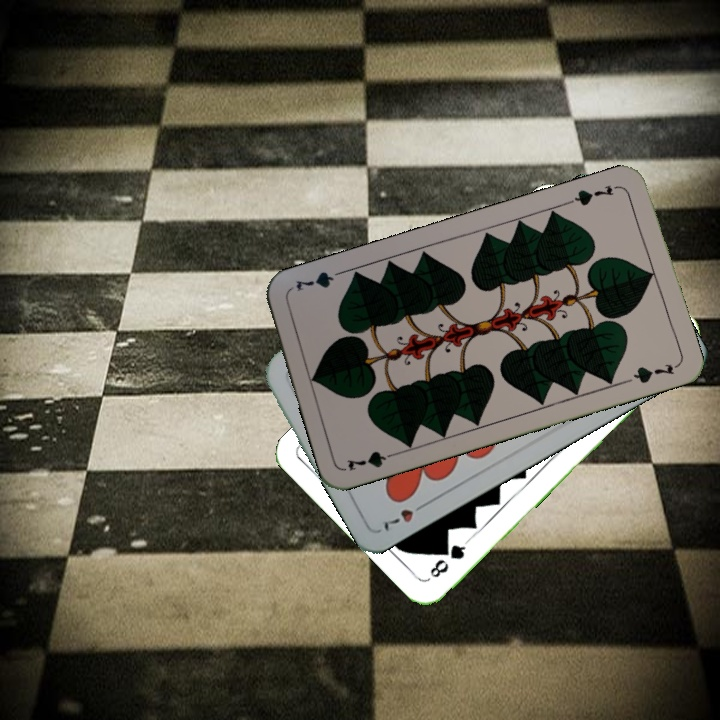G7: (565, 181, 623, 209), (343, 447, 402, 473)
G8: (425, 536, 471, 581)
H7: (379, 498, 431, 534)
